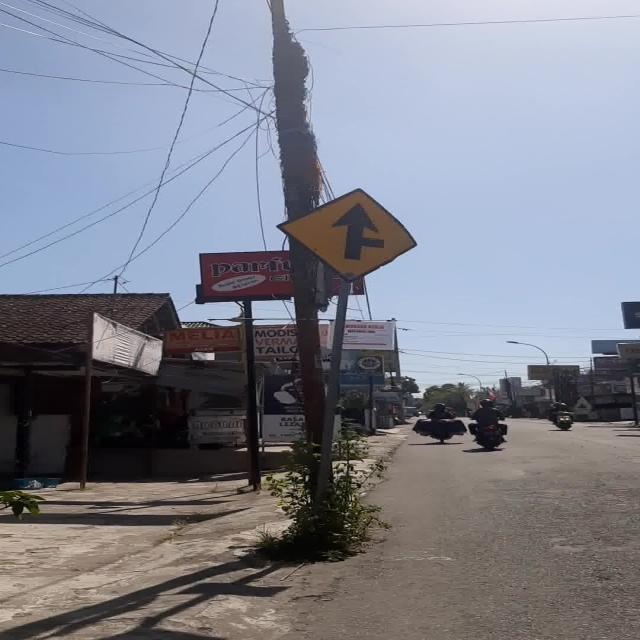Persimpangan 3 Prioritas Kanan: (276, 188, 418, 282)
